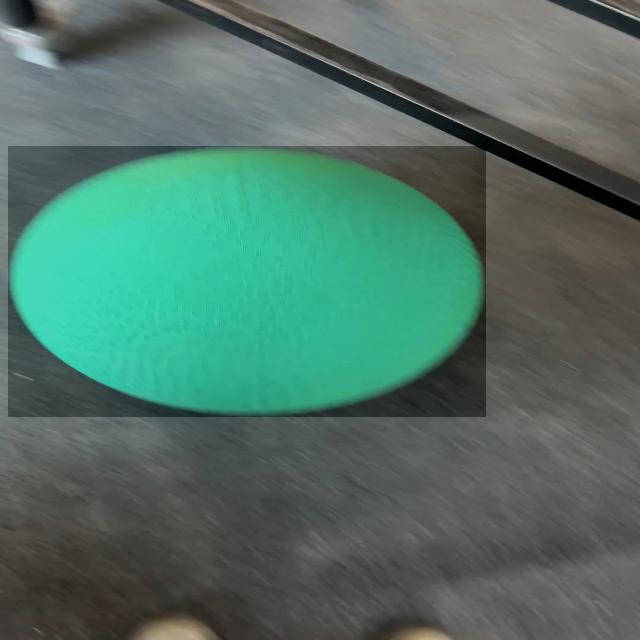Algae: (8, 146, 486, 417)
